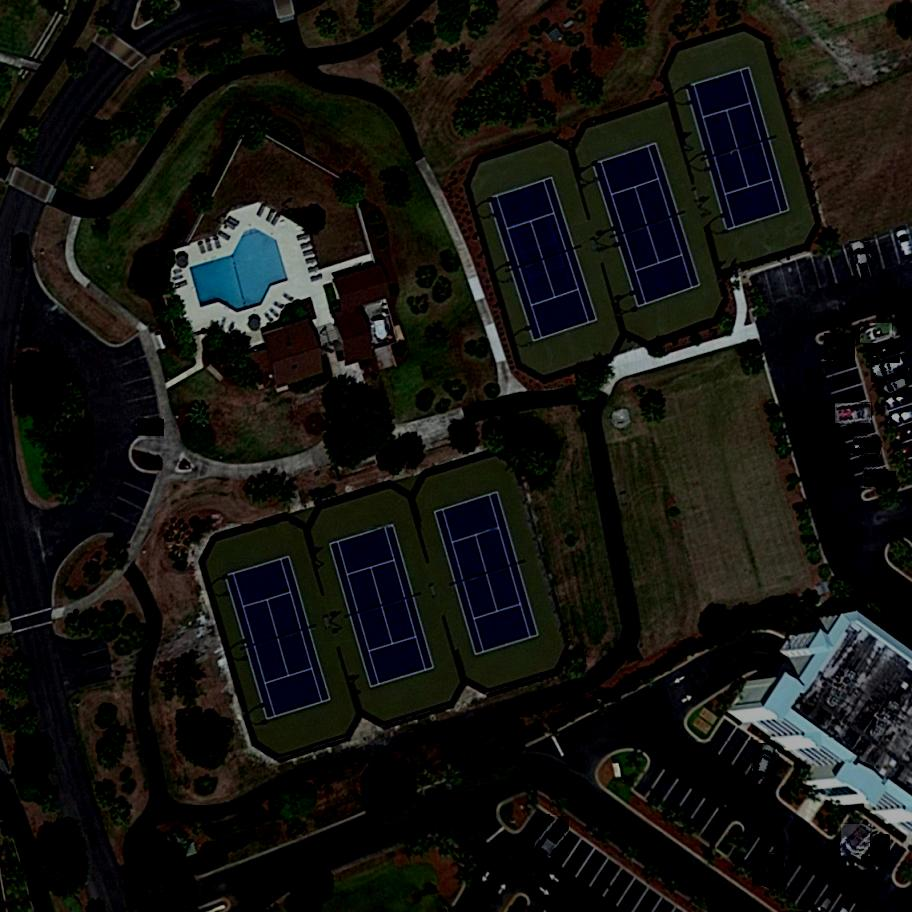small-vehicle: (534, 816, 570, 856), (871, 354, 908, 384), (753, 854, 786, 887), (860, 835, 891, 867), (840, 824, 871, 856), (849, 241, 871, 281), (877, 372, 910, 398), (825, 334, 856, 361), (866, 341, 901, 364), (753, 744, 776, 778), (835, 403, 872, 424), (859, 323, 894, 345), (863, 471, 897, 487), (134, 419, 164, 437), (11, 236, 27, 266), (853, 439, 881, 455)
